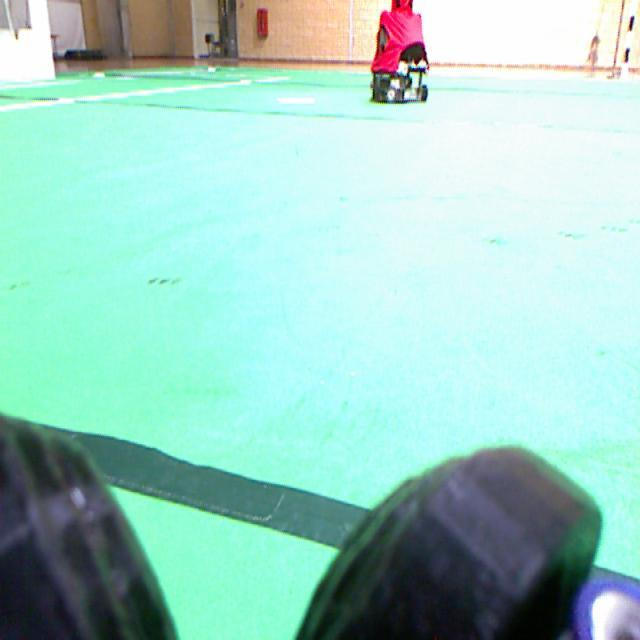goal: (28, 0, 54, 79)
